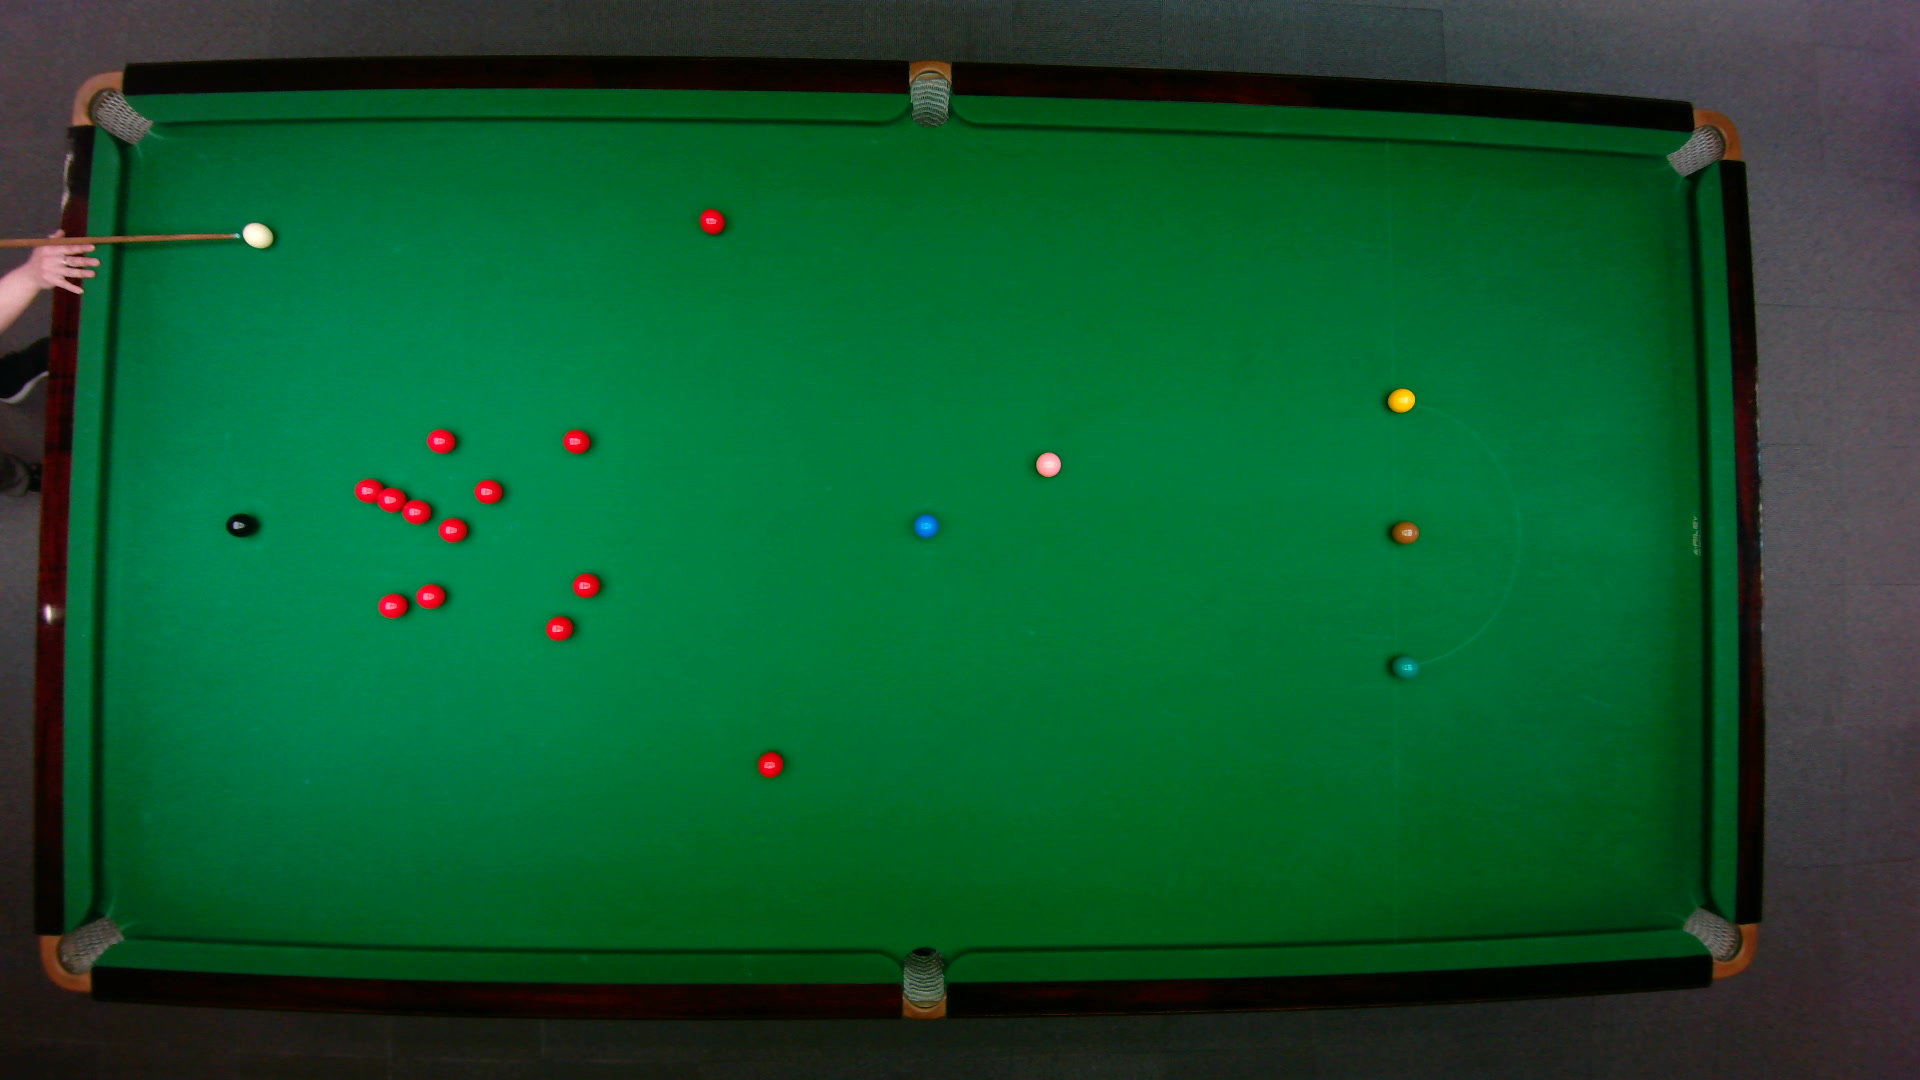bag: (38, 914, 125, 992), (69, 69, 152, 145), (1679, 905, 1756, 978), (1663, 107, 1741, 178), (901, 944, 944, 1021), (909, 58, 949, 128)
black: (224, 512, 256, 538)
blue: (913, 512, 938, 538)
brown: (1390, 520, 1419, 545)
cue: (0, 229, 241, 251)
green: (1389, 651, 1419, 679)
pink: (1034, 448, 1062, 477)
red: (413, 582, 446, 609), (400, 496, 431, 524), (376, 591, 407, 618), (756, 749, 785, 778), (698, 206, 727, 235), (543, 615, 574, 642), (376, 484, 406, 512), (436, 516, 468, 542), (570, 571, 601, 597), (425, 427, 456, 454), (560, 427, 591, 454), (352, 476, 382, 502), (472, 477, 502, 502)
white: (240, 219, 276, 249)
yellow: (1385, 385, 1416, 413)
zone: (1389, 401, 1519, 666)
